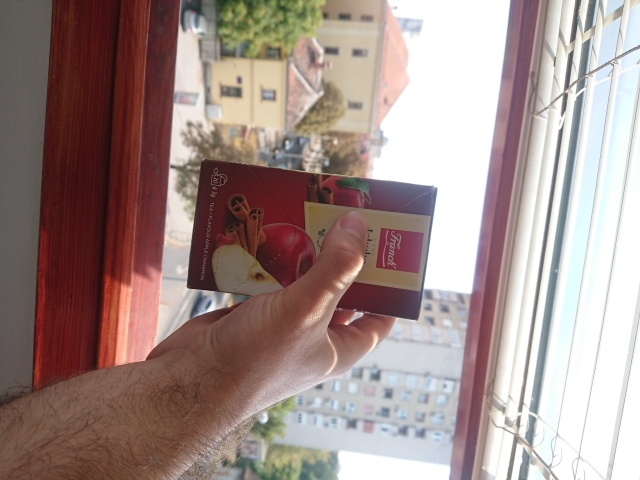Franck Apple Cinnamon Tea 60g: (184, 156, 439, 324)
